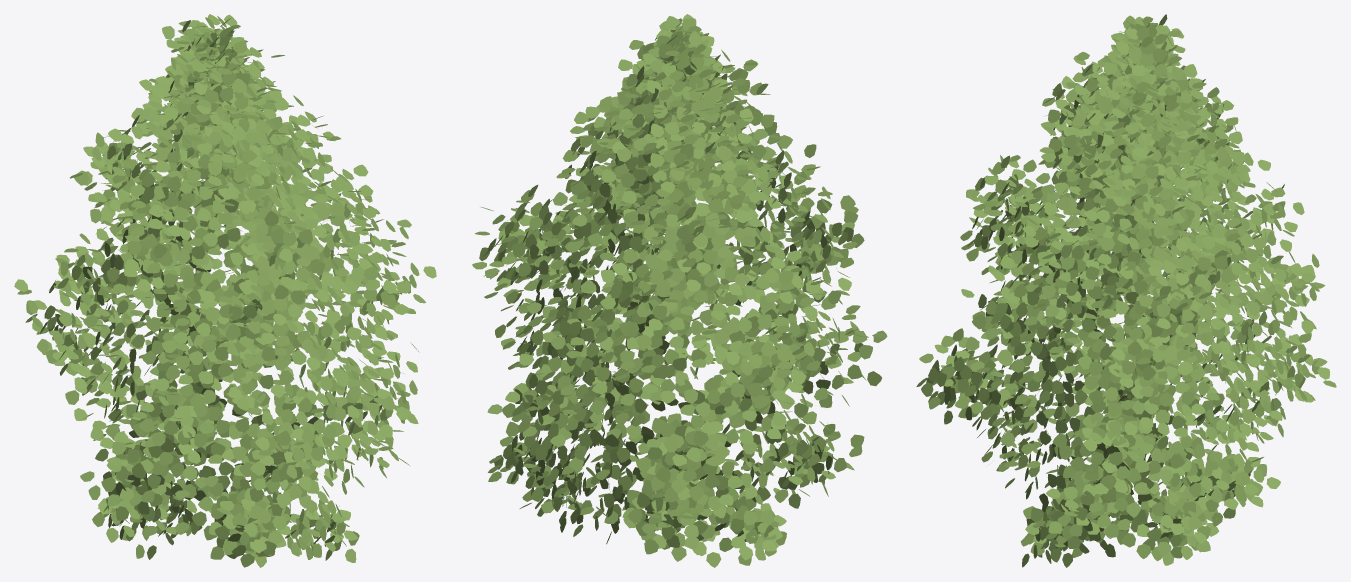
The model's file is real-tree3-leaves.glb.
The picture shows the model from 3 angles, left to right: view 1: azimuth 30°, elevation 25°; view 2: azimuth 150°, elevation 25°; view 3: azimuth 270°, elevation 25°; orthographic projection. The views are drawn at different scales.
Parts seen in each view (by area): view 1: leaves2; view 2: leaves2; view 3: leaves2.
Part boxes in pixels (x1,y1,x2,y2): leaves2: (14,14,436,567); leaves2: (472,14,887,567); leaves2: (916,14,1336,567).
Bounding box in the file's own units: 7.54 × 10.53 × 7.82.
